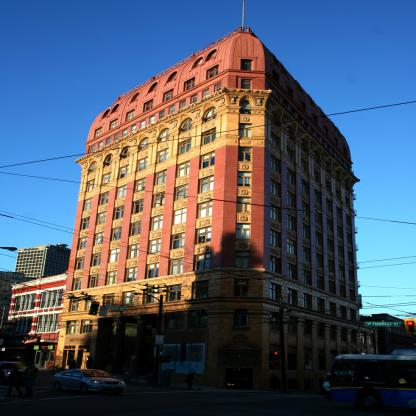Bus: (330, 348, 416, 409)
